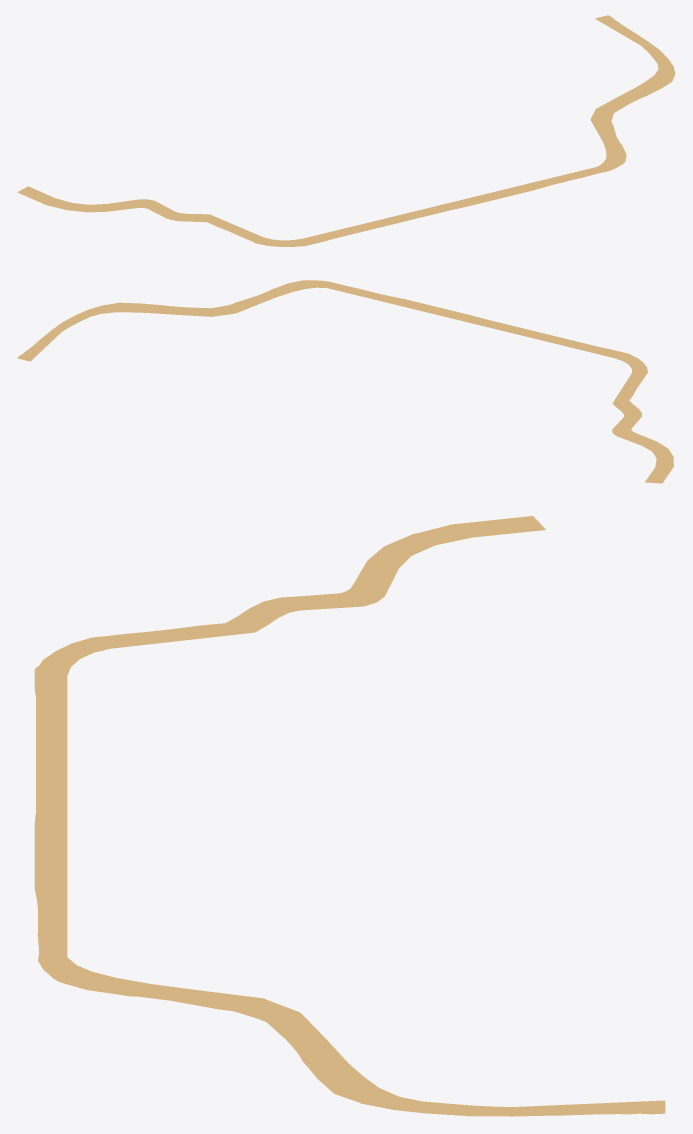
The model's file is Mesh_Activity_Pachinko_02_Grass_04.fbx.
3 views of the same model, one above another, from view 1: azimuth 30°, elevation 25°; view 2: azimuth 150°, elevation 25°; view 3: azimuth 270°, elevation 25° (orthographic). The views are drawn at different scales.
Visible parts, largest first — view 1: Mesh_Activity_Pachinko_02_Grass_04; view 2: Mesh_Activity_Pachinko_02_Grass_04; view 3: Mesh_Activity_Pachinko_02_Grass_04.
Part boxes in pixels (<box>): Mesh_Activity_Pachinko_02_Grass_04: <box>17,15,675,246</box>; Mesh_Activity_Pachinko_02_Grass_04: <box>17,280,673,483</box>; Mesh_Activity_Pachinko_02_Grass_04: <box>34,516,665,1116</box>.
Bounding box in the file's own units: 1438 × 0 × 637.
1 material, 1 textured.
